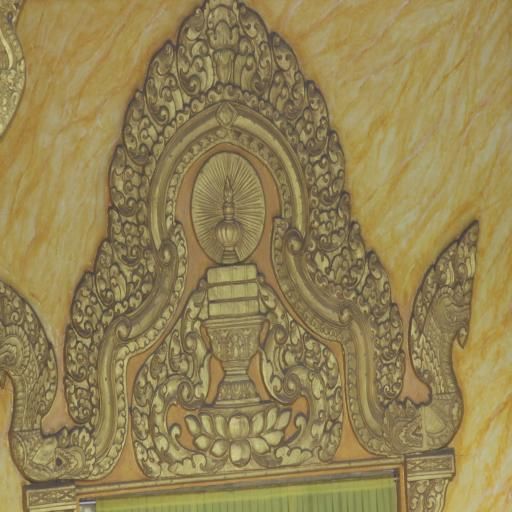lua: (271, 26, 305, 121), (237, 10, 271, 96), (108, 199, 149, 264), (90, 238, 128, 308), (127, 80, 158, 164), (110, 138, 146, 210), (152, 40, 182, 124), (301, 70, 330, 155), (336, 218, 366, 291), (316, 130, 348, 198), (62, 322, 98, 378), (317, 197, 354, 251), (70, 269, 102, 331), (184, 7, 204, 104), (363, 242, 389, 316), (183, 278, 207, 356), (64, 371, 97, 423), (266, 280, 290, 347), (381, 350, 406, 402), (378, 302, 402, 354), (320, 420, 347, 466), (283, 311, 305, 363), (136, 438, 160, 482), (167, 333, 188, 380), (320, 345, 342, 389), (151, 336, 169, 383), (304, 324, 324, 366), (132, 358, 150, 402), (130, 404, 150, 442), (325, 385, 345, 422)
ran: (402, 220, 484, 452), (1, 288, 58, 491)
